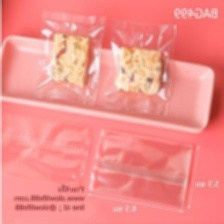snack: (100, 15, 181, 122), (27, 7, 109, 110)
